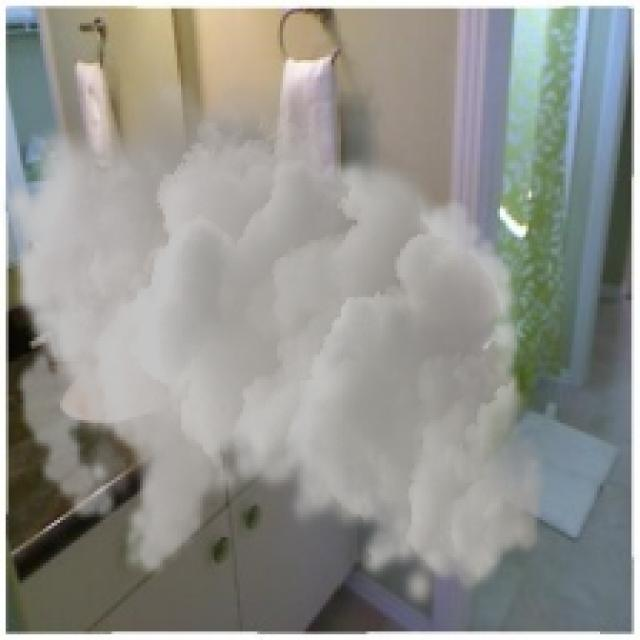smoke: (0, 54, 549, 612)
